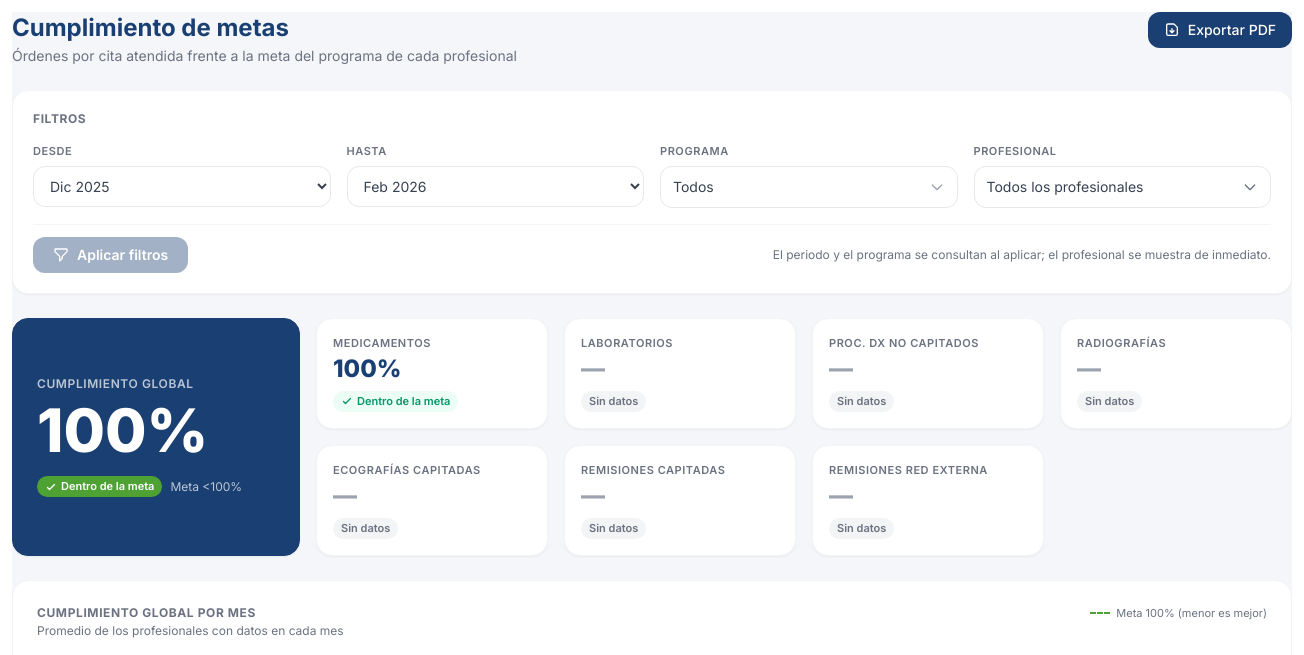
Test case: CumplimientoView › exportar a PDF › informa el error si no se pudo generar el PDF y lo limpia al reintentar
Click the button "Exportar PDF" at (1220, 30), box 1148,12 -> 1292,48
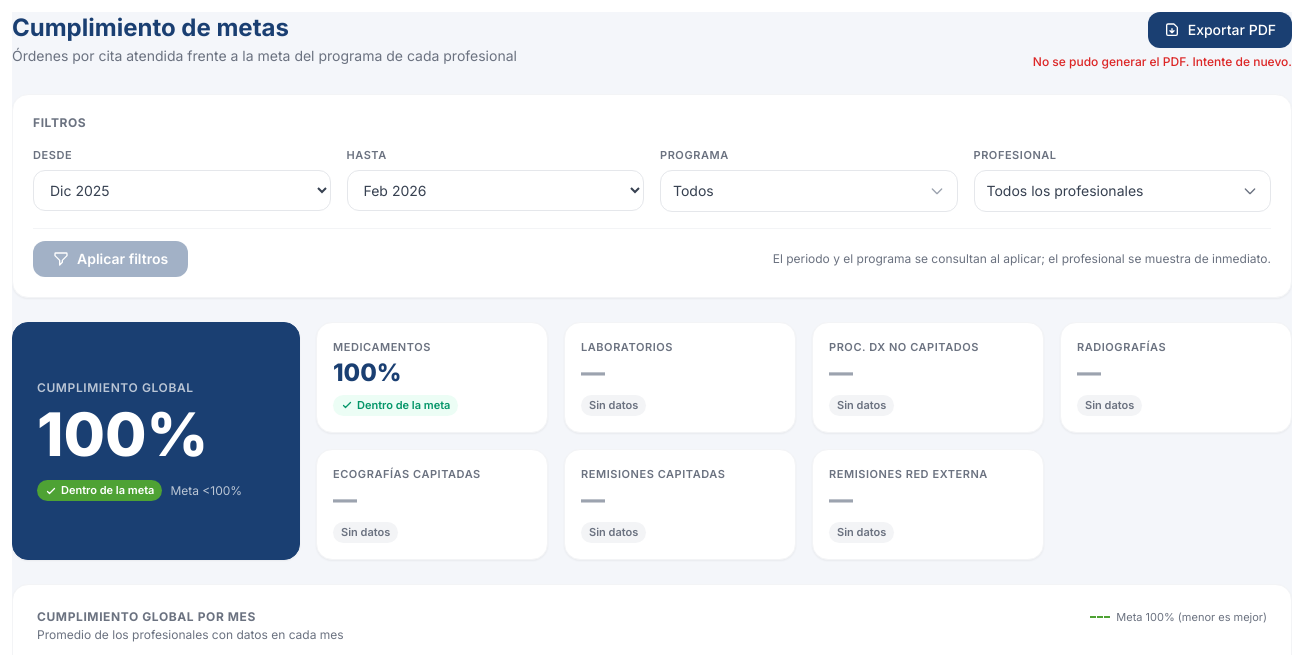
Now the message reads "No se pudo generar el PDF. Intente de nuevo.", box 1033,54 -> 1292,69
Click the button "Exportar PDF" at (1220, 30), box 1148,12 -> 1292,48
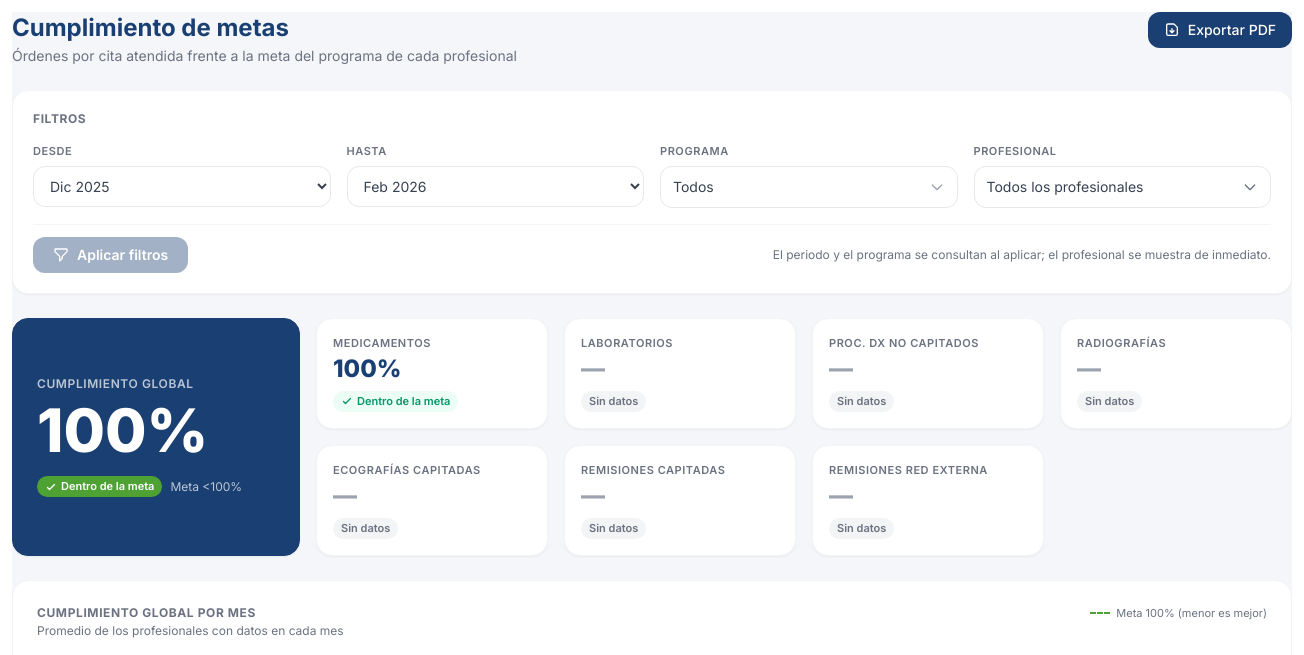
Now the message "No se pudo generar el PDF. Intente de nuevo." is gone
